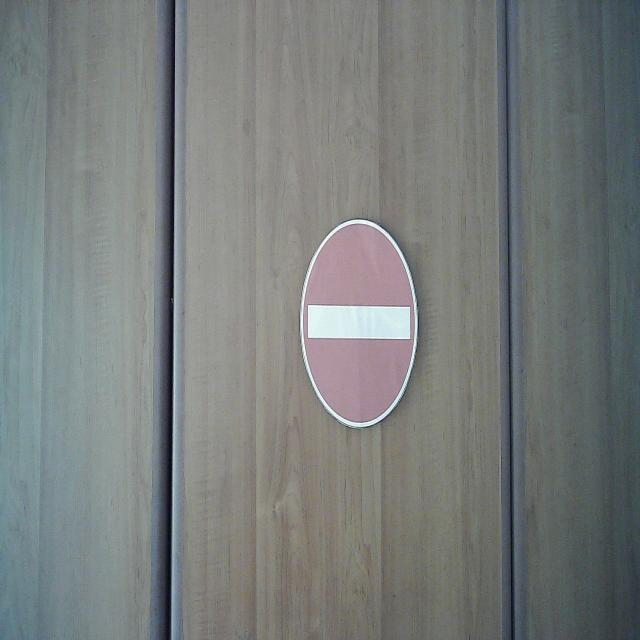no_entry: (298, 216, 419, 429)
